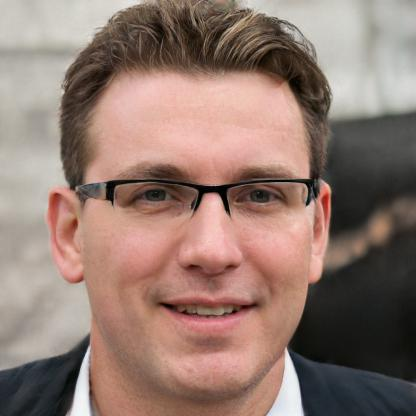glasses: (83, 175, 321, 228)
